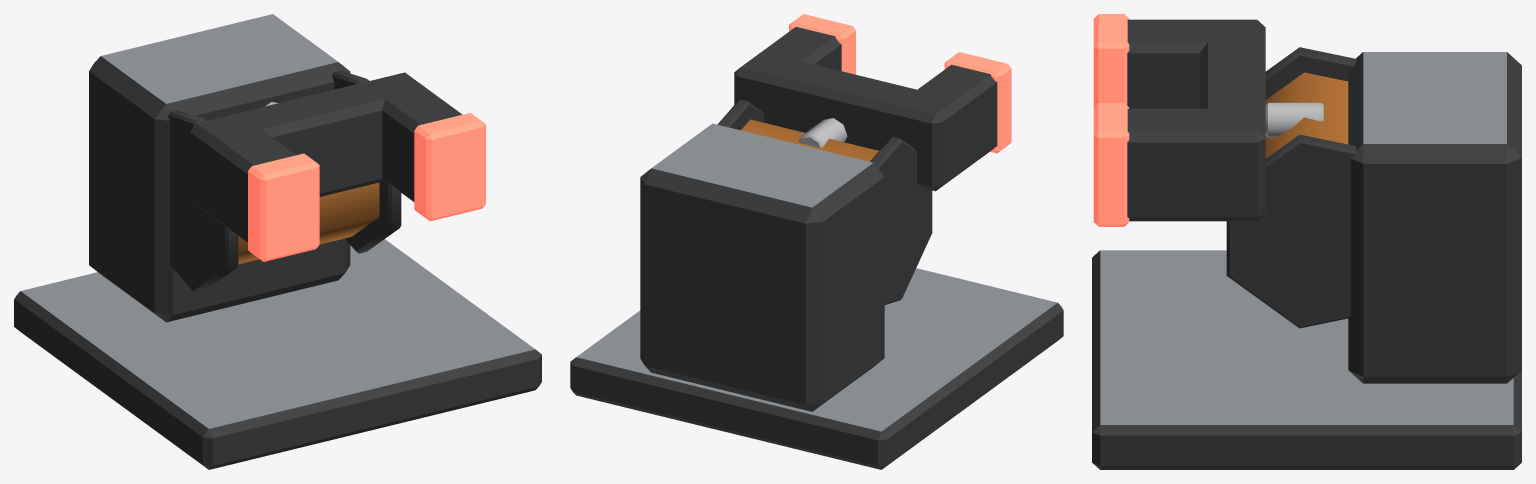
Rendered from R4X_MagneticGrapple_LOD1.fbx.
3 renders of one model, left to right at view 1: azimuth 30°, elevation 25°; view 2: azimuth 150°, elevation 25°; view 3: azimuth 270°, elevation 25°, orthographic. The views are drawn at different scales.
Visible parts, largest first — view 1: R4X_MagneticGrapple_LOD1; view 2: R4X_MagneticGrapple_LOD1; view 3: R4X_MagneticGrapple_LOD1.
Boxes of the visible parts, x1,y1,x2,y2 form: R4X_MagneticGrapple_LOD1: (14, 14, 541, 469); R4X_MagneticGrapple_LOD1: (570, 14, 1063, 469); R4X_MagneticGrapple_LOD1: (1092, 14, 1521, 469).
Size of the model in its own units: 0.52 by 0.414 by 0.52.
